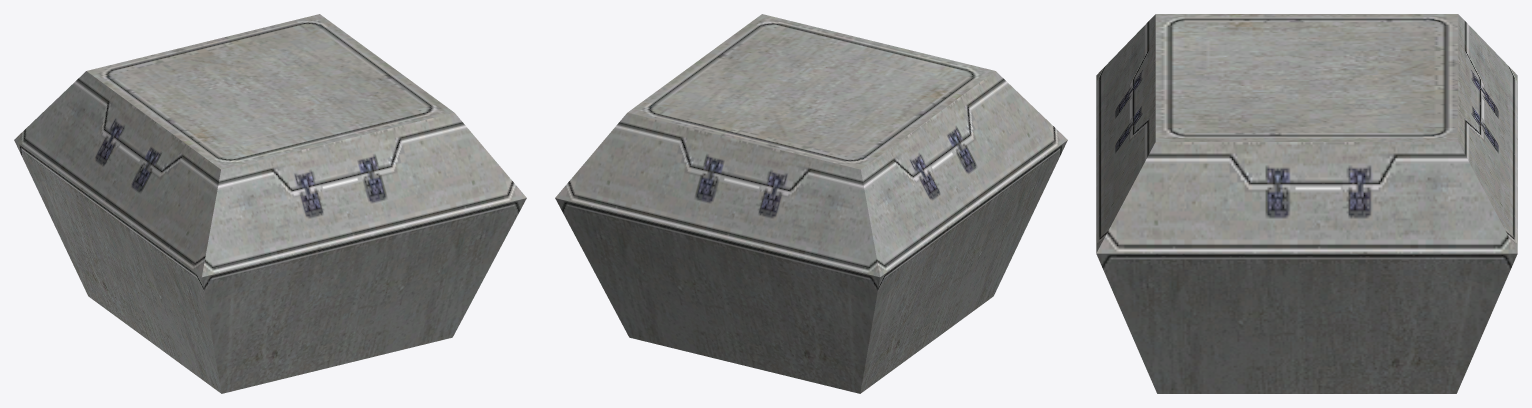
The model's file is con_gen_organic_hide_lg_l2.fbx.
The picture shows the model from 3 angles, left to right: view 1: azimuth 30°, elevation 25°; view 2: azimuth 150°, elevation 25°; view 3: azimuth 270°, elevation 25°; orthographic projection. The views are drawn at different scales.
Visible parts, largest first — view 1: mesh_node; view 2: mesh_node; view 3: mesh_node.
Boxes of the visible parts, <box> form: mesh_node: <box>14,14,526,393</box>; mesh_node: <box>555,14,1067,393</box>; mesh_node: <box>1096,14,1517,393</box>.
Size of the model in its own units: 0.9461 by 0.626 by 0.9461.
